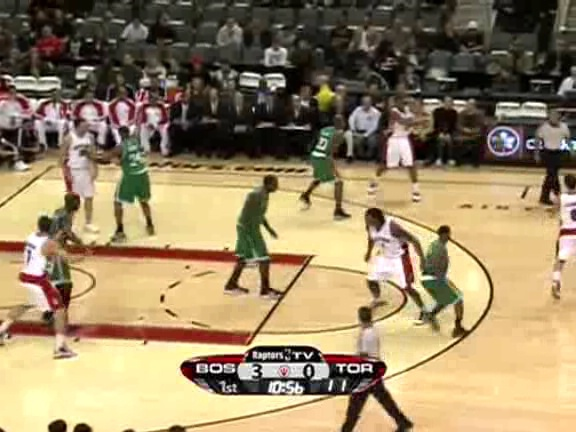person: (414, 232, 448, 313), (413, 232, 447, 313), (415, 232, 449, 313), (414, 231, 448, 312), (414, 233, 448, 314)
target_negative: (124, 314, 365, 390), (425, 83, 569, 205), (188, 338, 572, 349), (490, 110, 520, 213), (118, 259, 135, 375), (518, 165, 519, 377)
